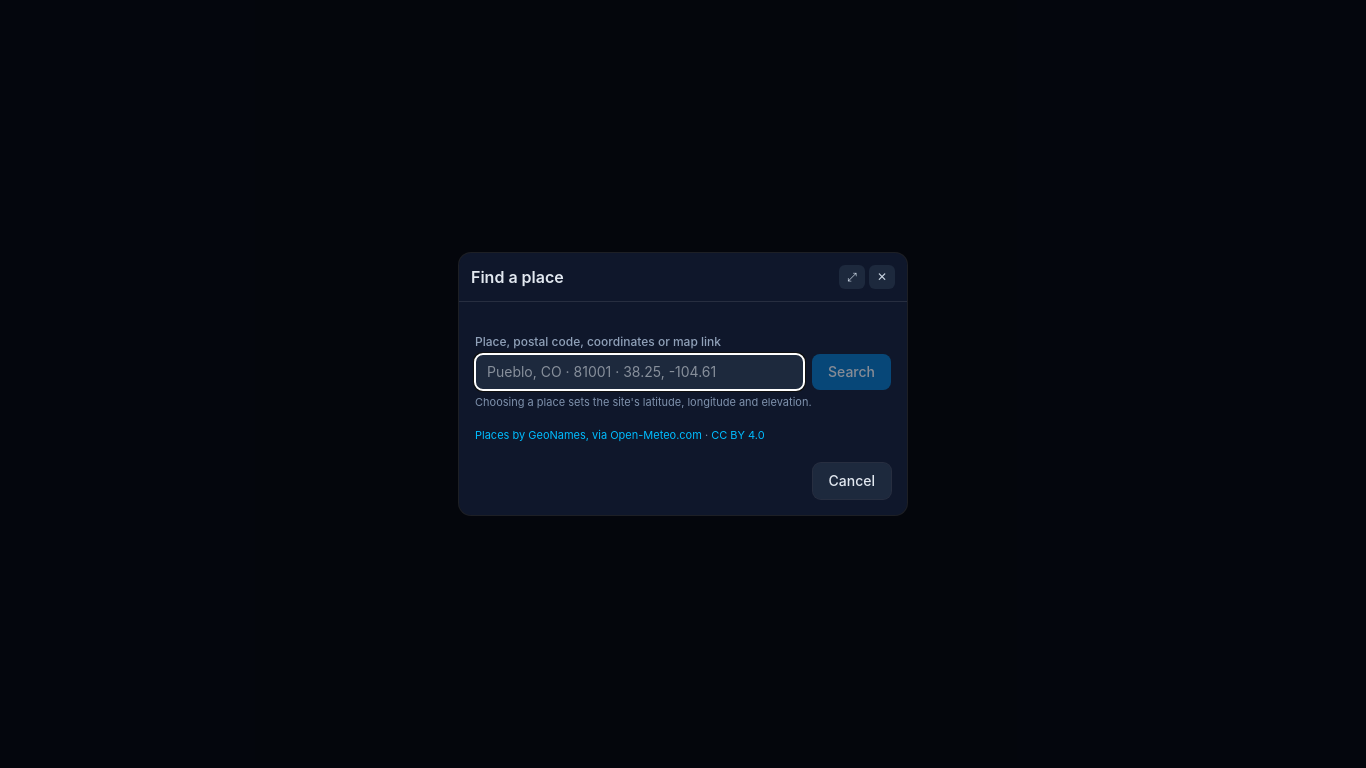
PlaceSearchDialog › says a shortened link cannot be read, and asks nothing of anyone
Type "https://maps.app.goo.gl/AbCdEf123" into the field labelled "Place, postal code, coordinates or map link" at (640, 372), box [475,354,804,390]
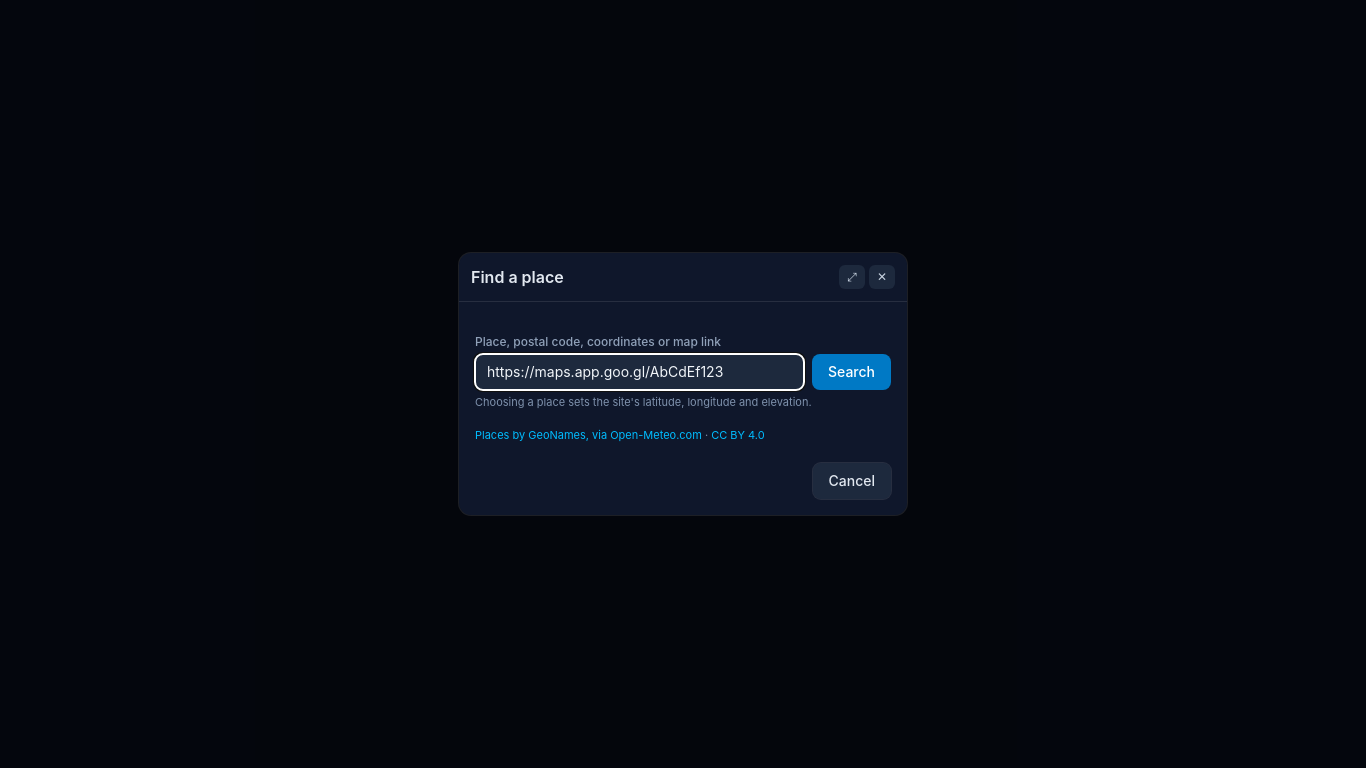
Click the button "Search" at (852, 372), box [812,354,891,390]
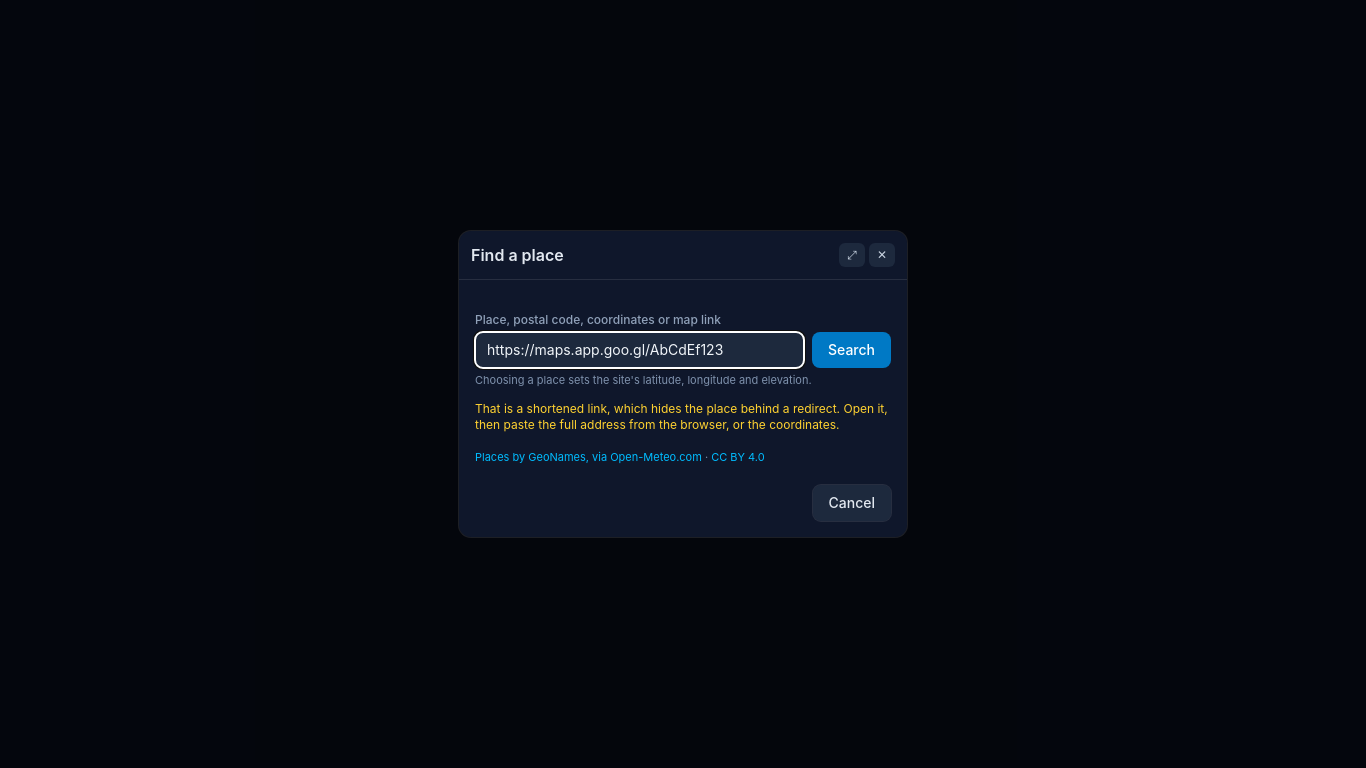
Check: the text "shortened link" is shown, box [475,400,888,432]
